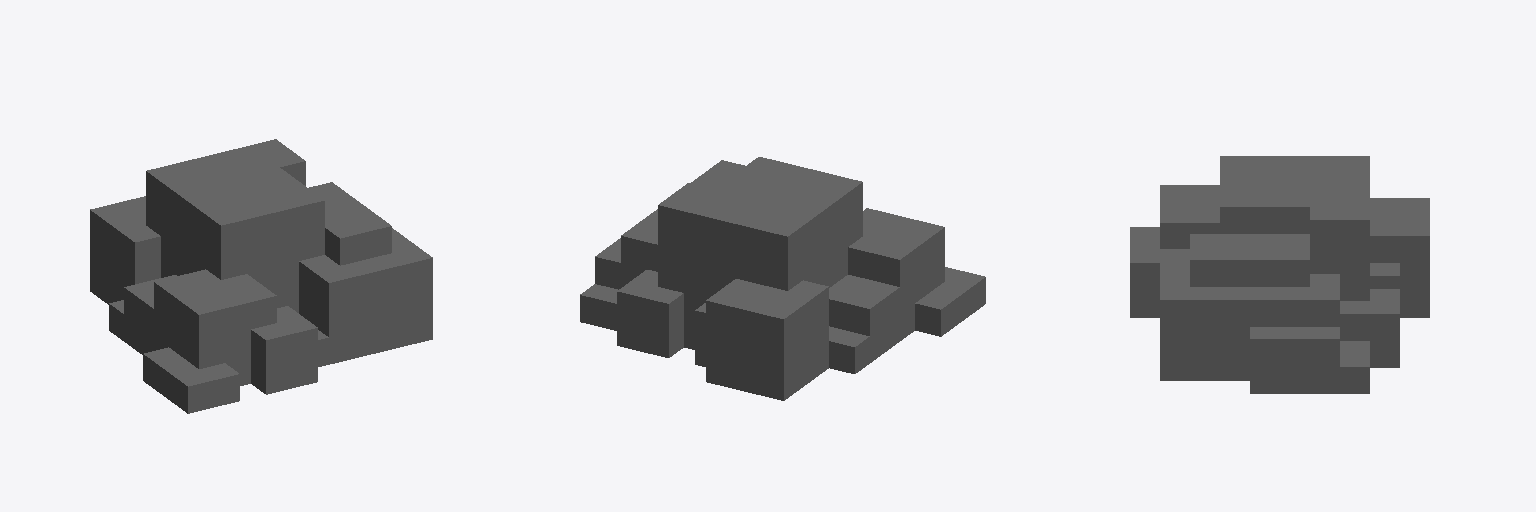
3 views of the same model, side by side, from view 1: azimuth 30°, elevation 25°; view 2: azimuth 150°, elevation 25°; view 3: azimuth 270°, elevation 25° (orthographic).
Visible parts, largest first — view 1: rock2; view 2: rock2; view 3: rock2.
Part boxes in pixels (x1,y1,x2,y2): rock2: (90, 139, 432, 413); rock2: (580, 157, 985, 400); rock2: (1130, 156, 1429, 393).
Bounding box in the file's own units: 1.1 × 0.5 × 1.
1 materials, 1 textured.